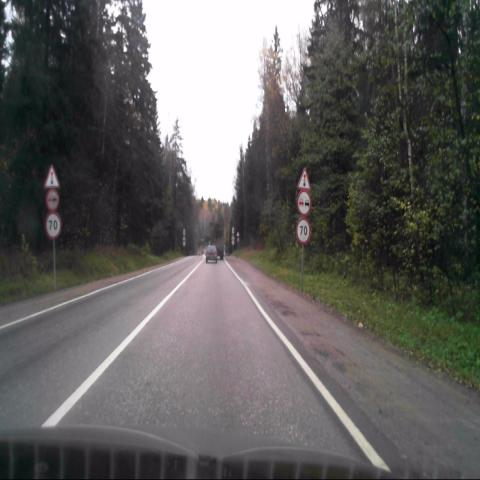1_8: (44, 165, 59, 189), (298, 167, 310, 191)
